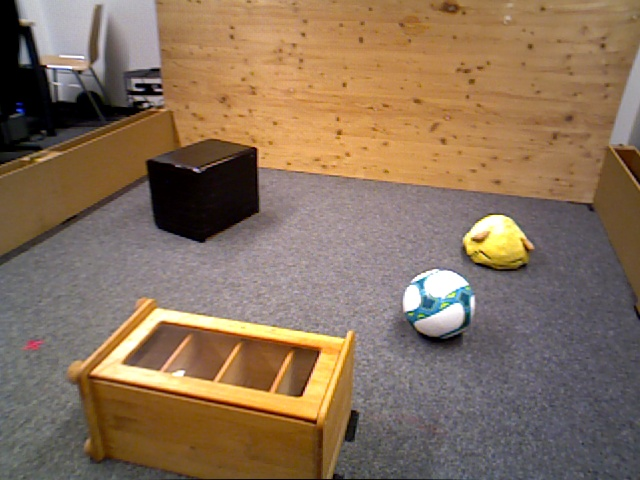grasp: (461, 213, 533, 269)
kick: (406, 272, 475, 340)
push: (145, 138, 262, 241)
